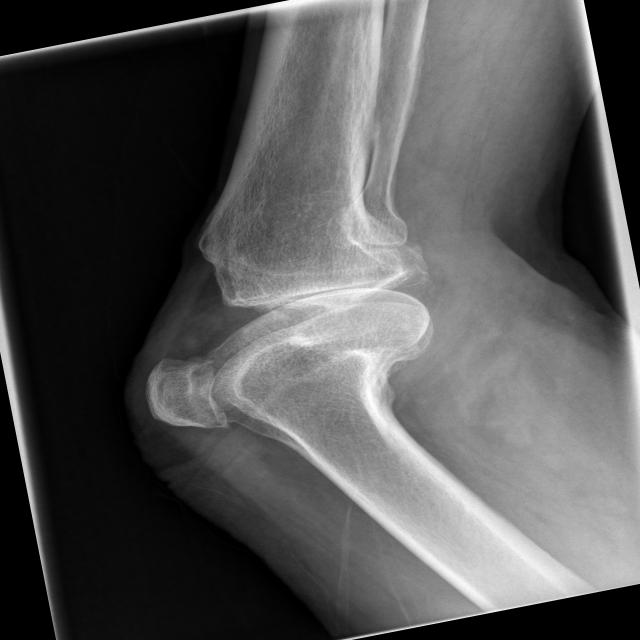Knee: (115, 197, 448, 448)
